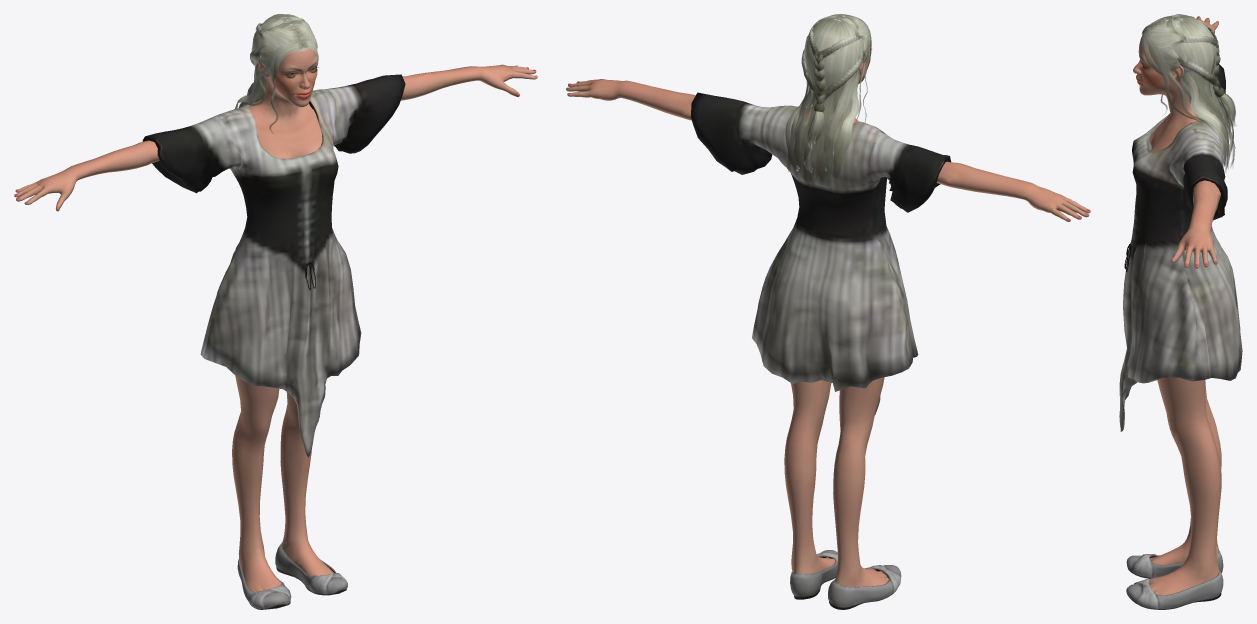
Rendered from person-standing-3.glb.
The picture shows the model from 3 angles, left to right: view 1: azimuth 30°, elevation 25°; view 2: azimuth 150°, elevation 25°; view 3: azimuth 270°, elevation 25°; orthographic projection.
Visible parts, largest first — view 1: Body__0; view 2: Body__0; view 3: Body__0.
Part boxes in pixels (x1,y1,x2,y2): Body__0: (14,14,537,609); Body__0: (566,14,1090,609); Body__0: (1119,14,1242,609).
Size of the model in its own units: 1.62 by 1.7 by 0.332.
Materials: 1 (1 with a texture image).
